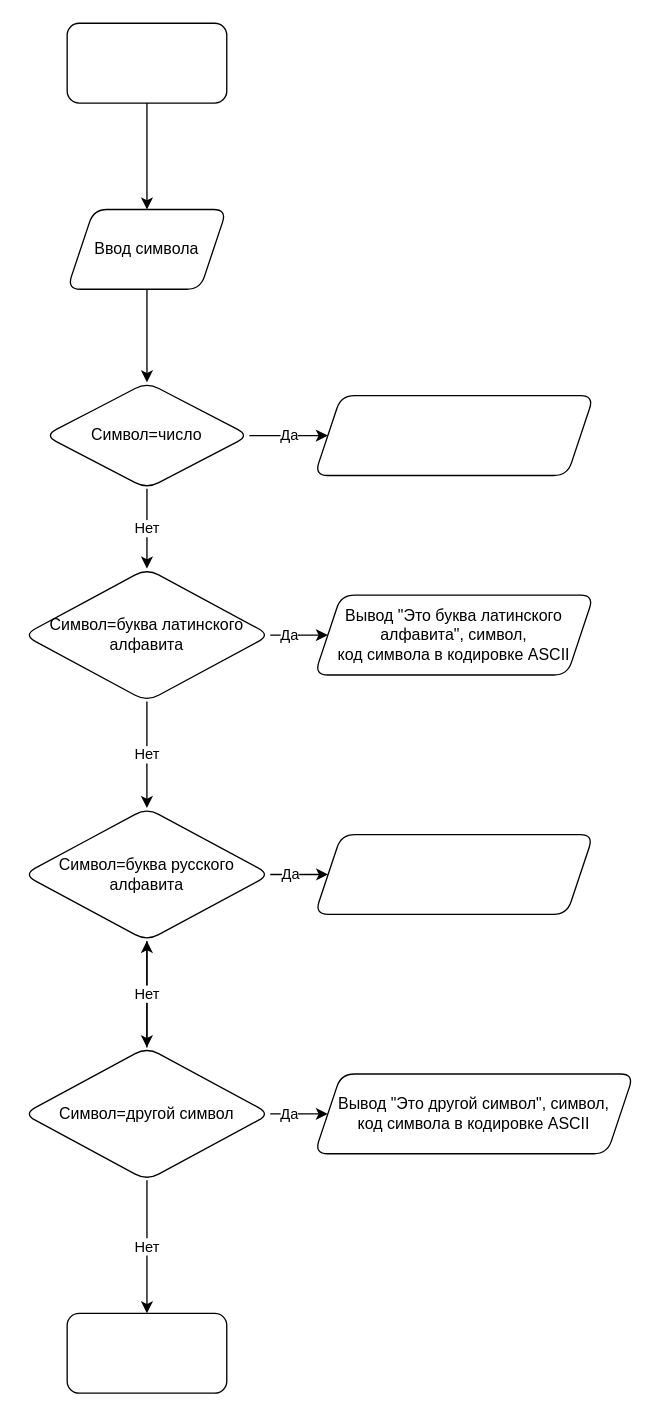
Image size: 657x1416. Some labels were removed from this diagram. Here are the shapes that lost their labels. From the top down, the centre of each, then its label:
pixel 146 62: Начало
pixel 453 434: Вывод "Это цифра", символ, код символа в кодировке ASCII
pixel 453 873: Вывод "Это буква русского алфавита", символ, код символа в кодировке ASCII
pixel 146 1352: Конец
